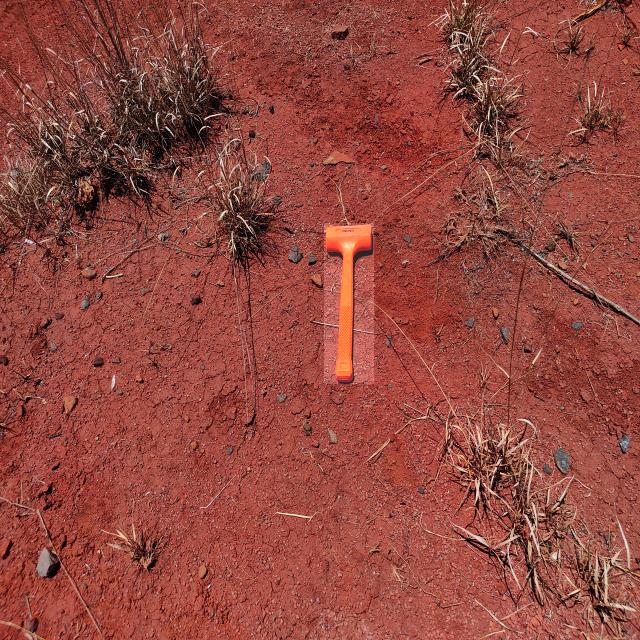Orange_hammer: (324, 223, 374, 384)
